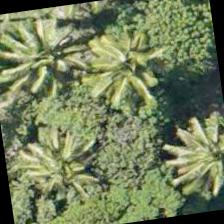Kelapa_Sawit: (0, 7, 102, 109), (70, 11, 172, 113), (9, 111, 111, 212), (146, 116, 223, 217)
